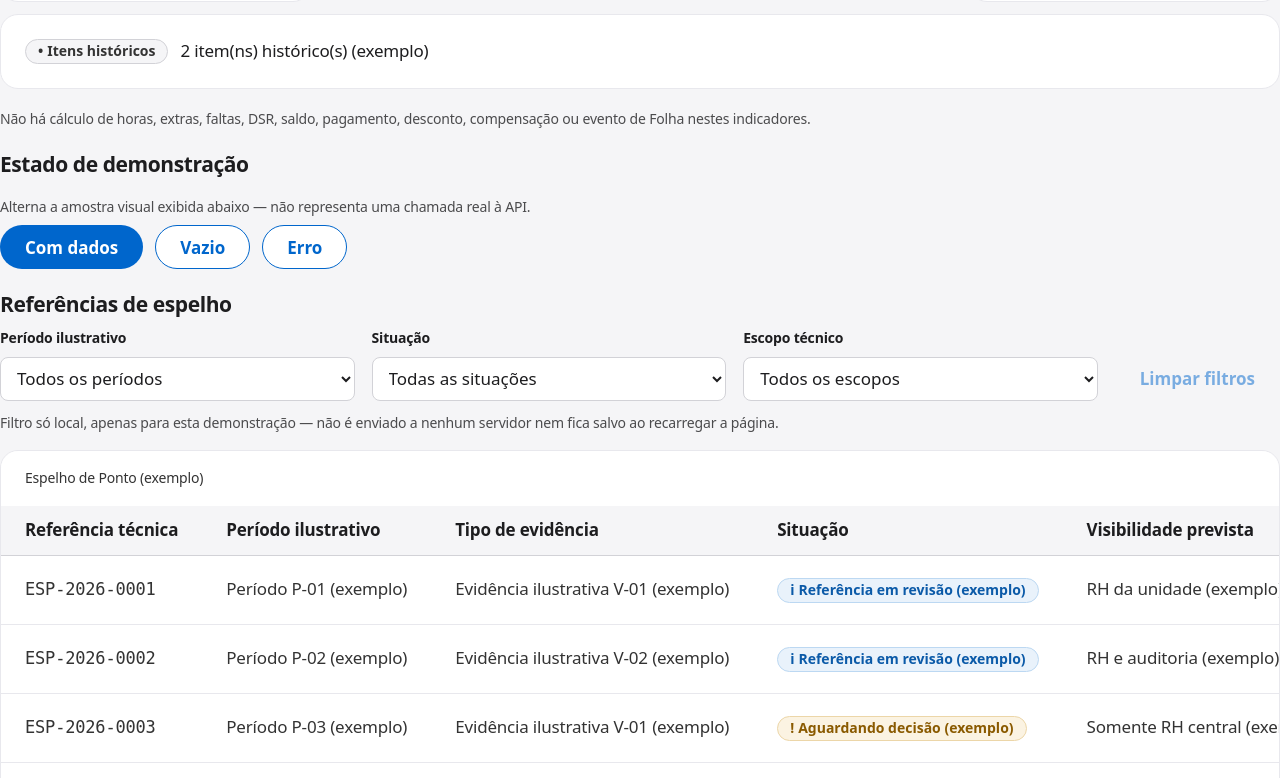
Test case: EspelhoPontoScreen (T099 — tela visual estática) › mostra EmptyState quando o filtro não corresponde a nenhuma referência
The width and height of the screenshot is (1280, 778).
(page scrolled)
Step 1. Select "Período P-01 (exemplo)" in the dropdown labelled "Período ilustrativo" → (177, 379), box x1=0 y1=357 x2=355 y2=401
(page scrolled)
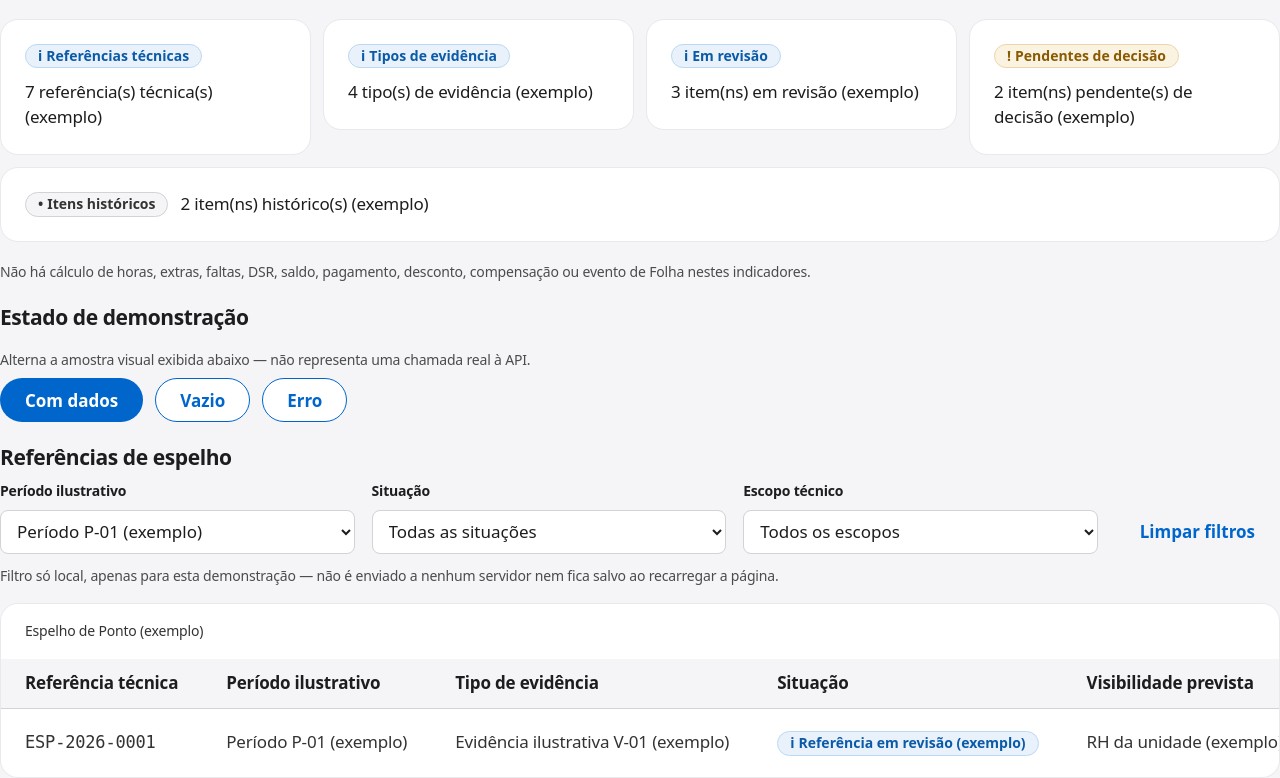
Step 2. Select "Escopo E-02 (exemplo)" in the dropdown labelled "Escopo técnico" → (920, 532), box x1=743 y1=510 x2=1098 y2=554
(page scrolled)
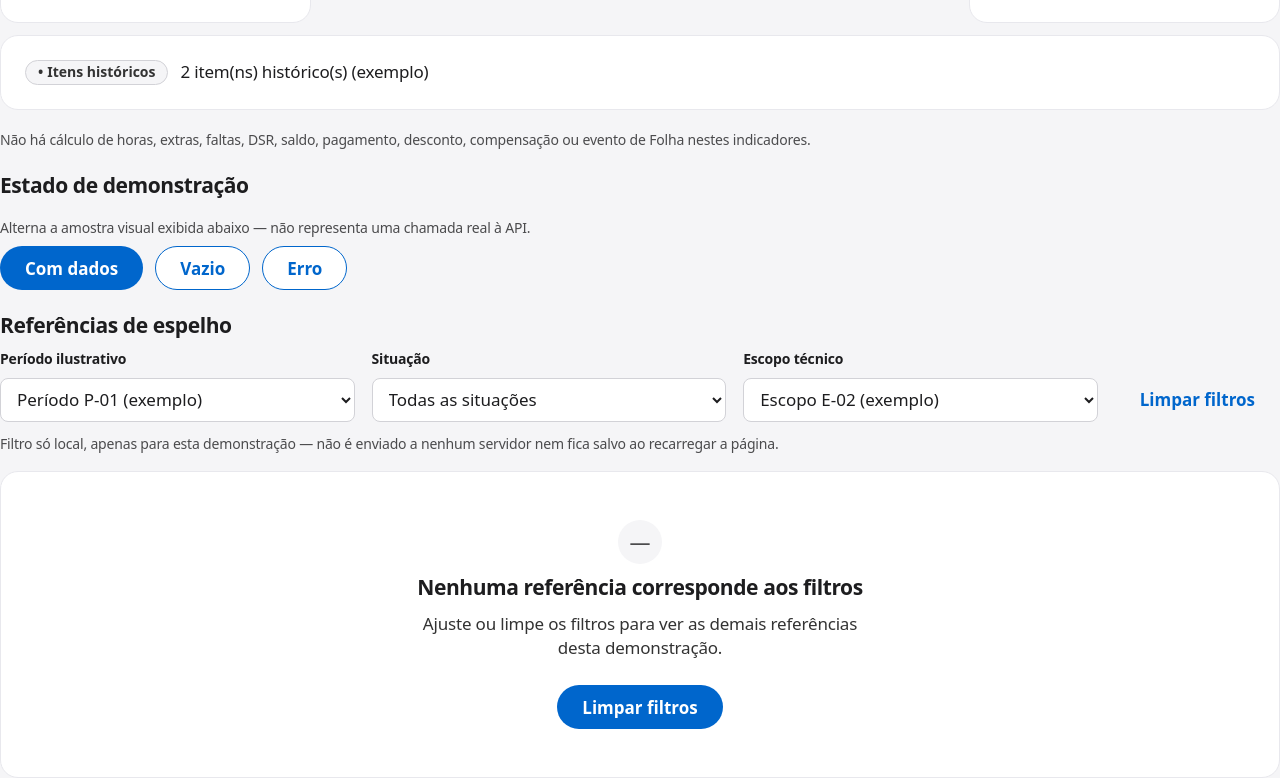
Check: the heading "Nenhuma referência corresponde aos filtros" is shown, box x1=417 y1=576 x2=863 y2=600
